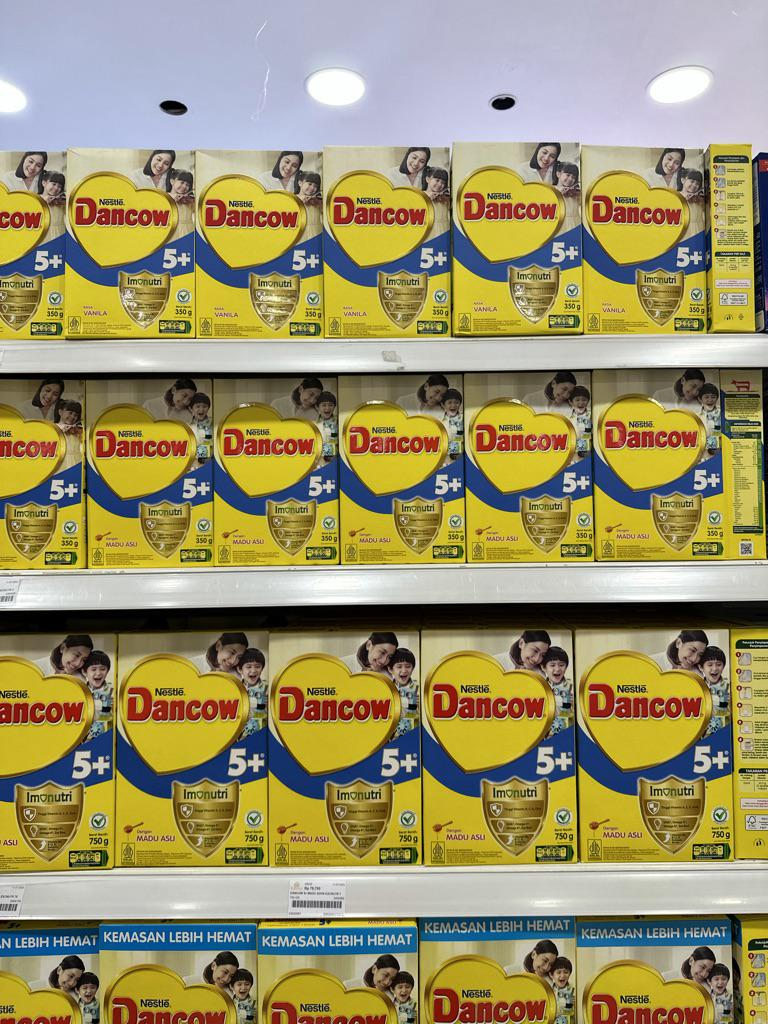DANCOW 5+ Madu Advn ExcNutr 12x800g ID_REDESIGN3: (579, 628, 735, 861), (421, 629, 577, 860), (268, 629, 422, 863), (115, 631, 266, 864), (0, 633, 116, 866)
DANCOW 5+ Madu Advn ExcNutr 24x400g ID_REDESIGN3: (594, 369, 725, 560), (466, 372, 594, 562), (338, 377, 466, 564), (86, 378, 213, 566), (213, 377, 337, 566)
